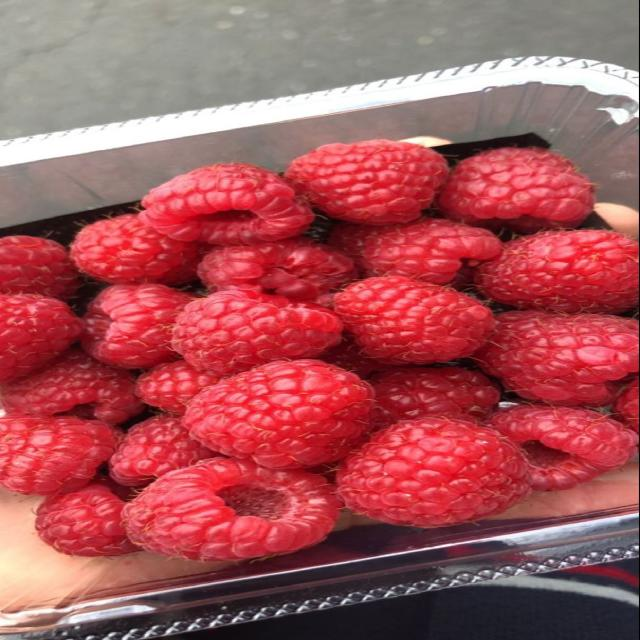raspberry: (124, 458, 340, 560), (337, 417, 529, 527), (184, 360, 373, 468), (474, 311, 638, 405), (173, 290, 342, 375), (335, 276, 494, 364), (140, 164, 313, 244), (286, 140, 448, 225), (477, 230, 638, 313), (487, 406, 637, 490), (438, 148, 594, 226), (0, 350, 143, 424), (198, 237, 356, 301), (0, 415, 119, 495), (82, 284, 193, 368), (362, 219, 502, 284), (71, 214, 200, 284), (35, 483, 139, 556), (372, 367, 500, 426), (109, 415, 215, 486), (0, 295, 83, 382), (0, 236, 79, 299), (136, 361, 220, 413), (318, 335, 392, 378), (327, 223, 380, 267), (615, 378, 639, 431)
